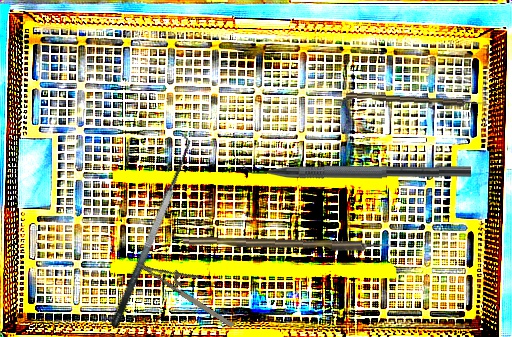Chopper: (234, 149, 472, 182)
Hook Surgical: (182, 235, 396, 253), (345, 91, 484, 109)
Needle Holder: (136, 243, 245, 331)
Spatula Surgical: (93, 131, 203, 329)
